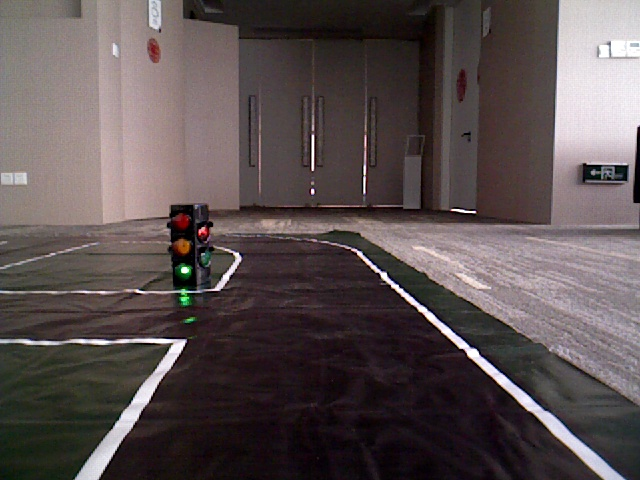green: (171, 207, 196, 282)
